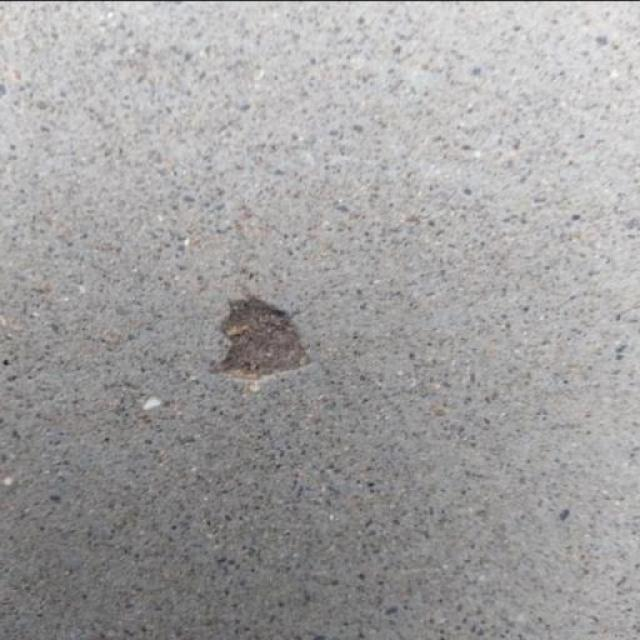D10: (209, 294, 308, 381)
